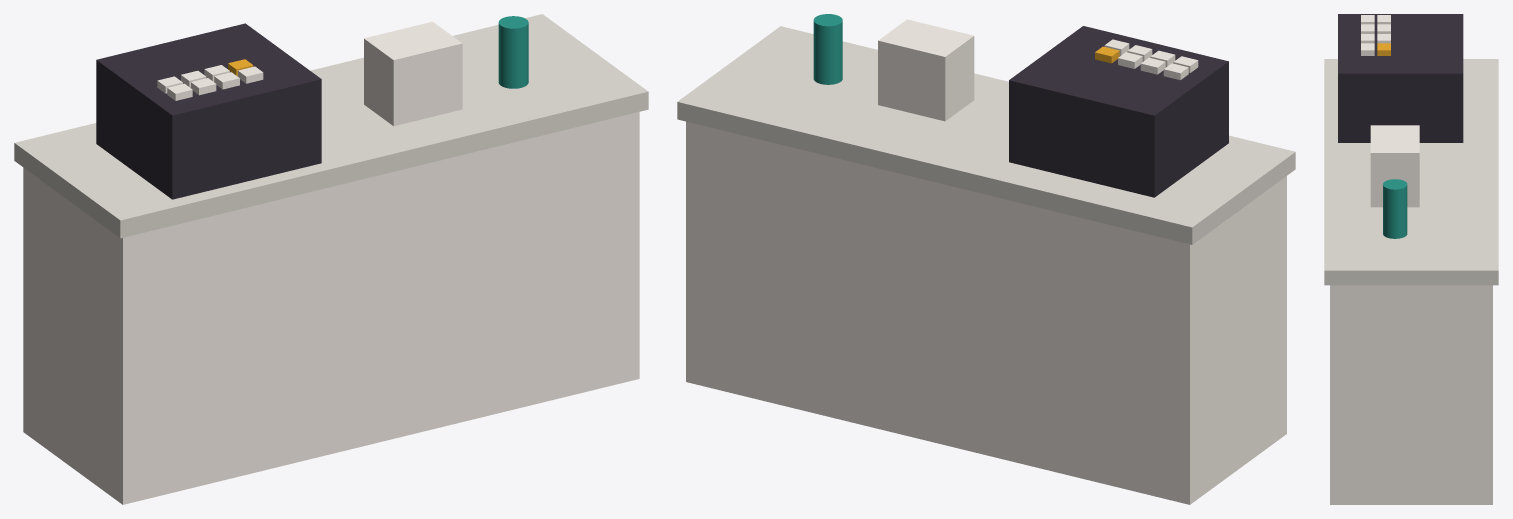
The model's file is diner_register.glb.
The picture shows the model from 3 angles, left to right: view 1: azimuth 30°, elevation 25°; view 2: azimuth 150°, elevation 25°; view 3: azimuth 270°, elevation 25°; orthographic projection. The views are drawn at different scales.
Parts seen in each view (by area): view 1: base_cabinet, counter_top, register_body, napkin_dispenser, straw_jar; view 2: base_cabinet, counter_top, register_body, napkin_dispenser, straw_jar; view 3: base_cabinet, counter_top, register_body, napkin_dispenser, straw_jar.
Boxes of the visible parts, x1,y1,x2,y2 form: base_cabinet: (23,112,639,504); counter_top: (14,14,648,238); register_body: (96,23,321,199); napkin_dispenser: (364,21,462,126); straw_jar: (498,16,528,88); base_cabinet: (686,121,1286,504); counter_top: (677,26,1295,244); register_body: (1009,26,1228,197); napkin_dispenser: (878,19,974,121); straw_jar: (813,14,842,84); base_cabinet: (1330,285,1492,504); counter_top: (1324,59,1498,285); register_body: (1338,14,1463,142); napkin_dispenser: (1370,125,1419,207); straw_jar: (1383,179,1407,238).
Bounding box in the file's own units: 1.84 × 1.26 × 0.64.
